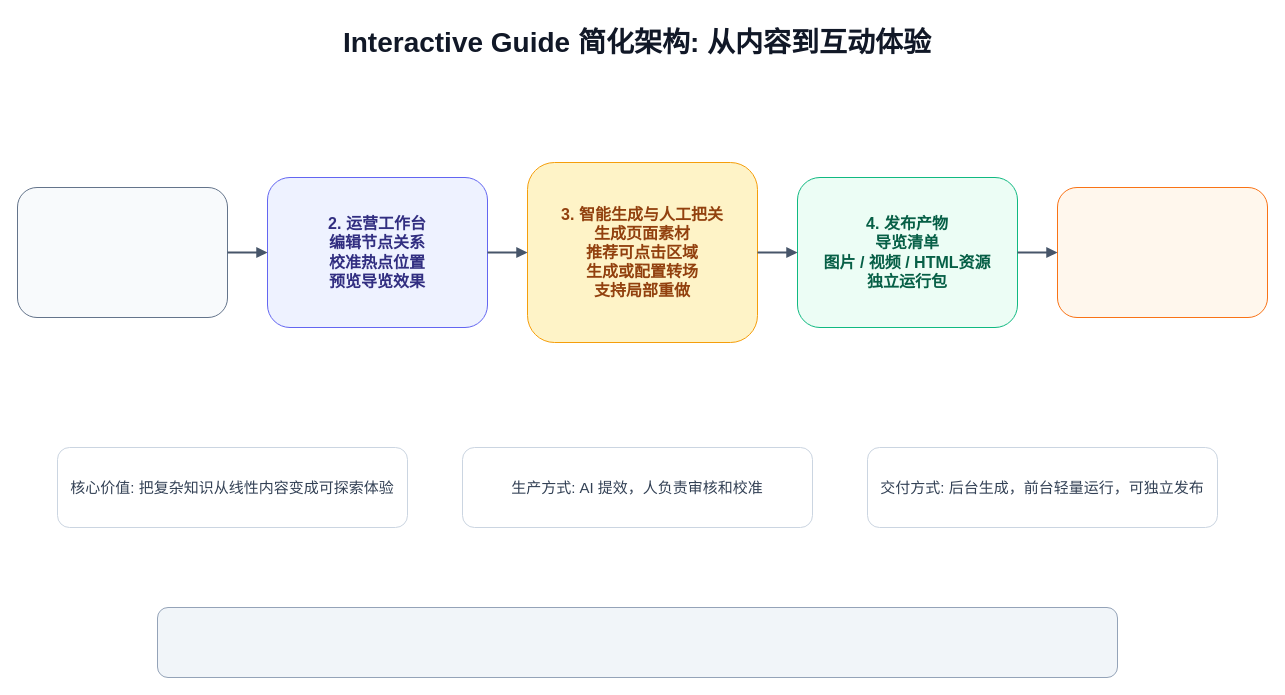
Image size: 1285x695. Some labels were removed from this diagram. Each missing label, with the box of its shape:
1. 内容输入 知识资料 / 主题结构 / 图片或HTML素材: (16, 186, 228, 318)
5. 用户端体验 轻量加载 点击探索 转场浏览 分享传播: (1056, 186, 1268, 318)
适用场景: 课程导览 / 产业链图谱 / 专题展示 / 品牌展厅 / 内部知识沉淀: (156, 606, 1118, 678)
